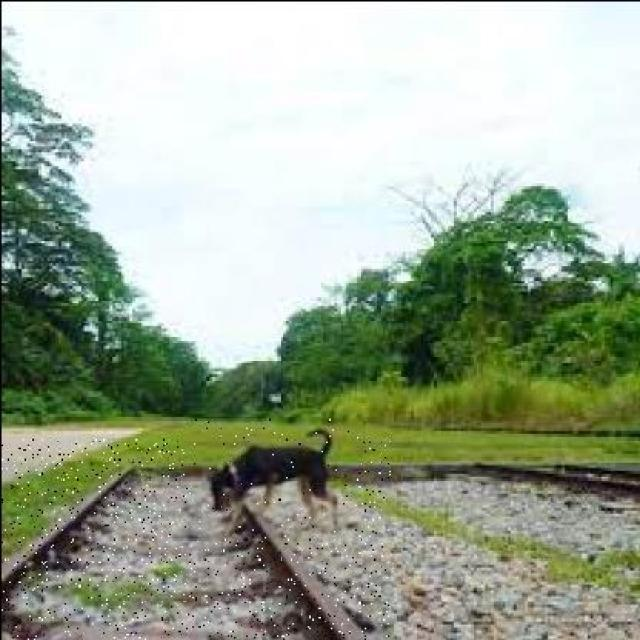danger: (186, 417, 357, 537)
rail: (0, 437, 389, 640)
